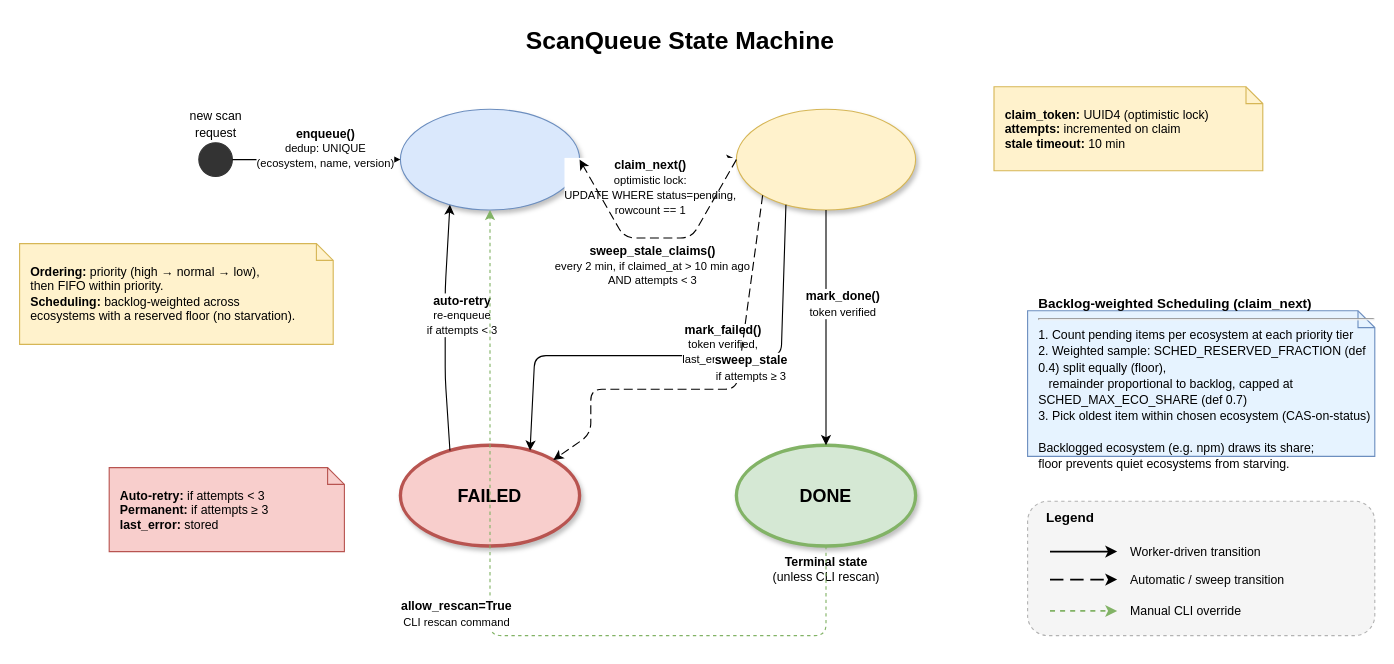
Image size: 1394x664. Some labels were removed from this diagram. Each missing label, with the centre of its shape:
"CLAIMED" belongs at pixel 826 161.
"PENDING" belongs at pixel 490 161.
